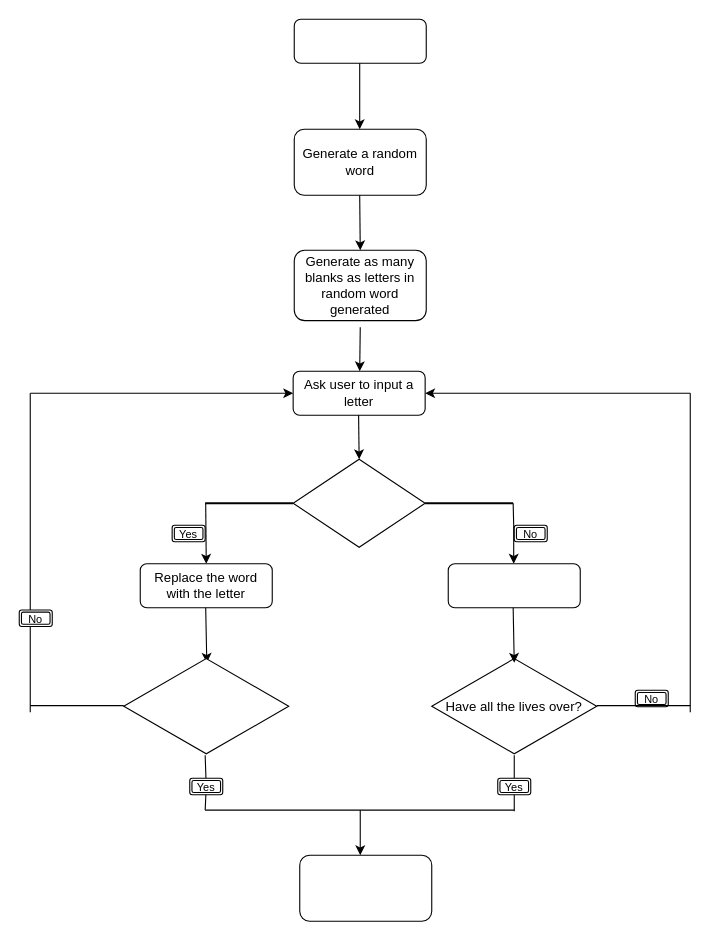
Some shapes in this 718 by 941 pixel diagram are drawn without their labels. Each missing label, with the box of its shape:
Are the letters filled the word: (123, 656, 289, 755)
Game Over: (299, 854, 432, 921)
Is user input letter in the word: (292, 458, 425, 547)
Lose a life: (447, 563, 580, 608)
start: (293, 18, 426, 63)
